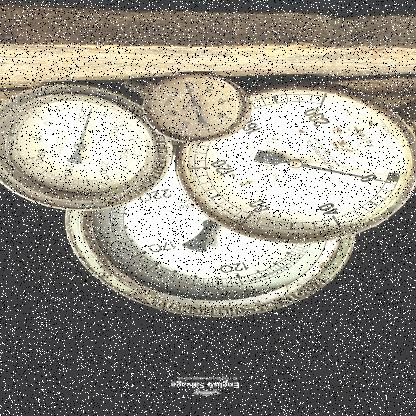needle: (77, 107, 93, 143)
